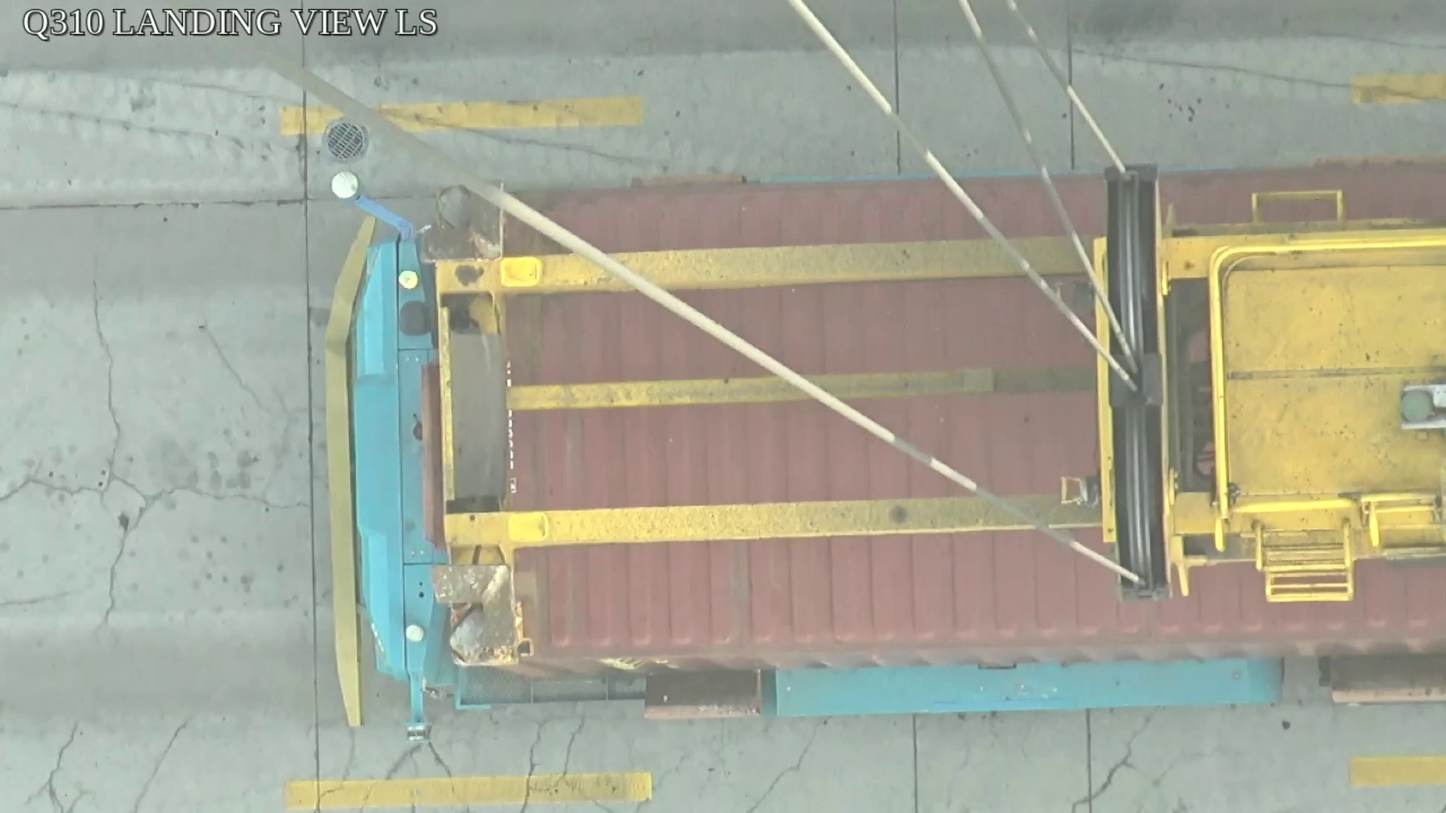aa: (1099, 160, 1188, 602)
